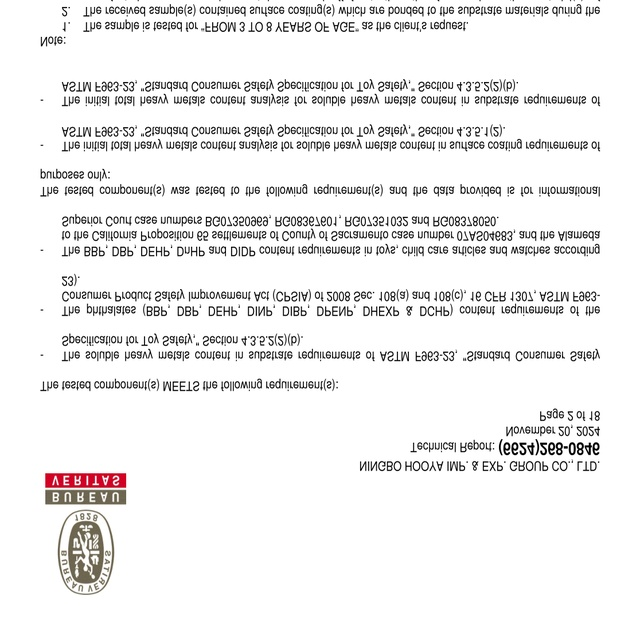bureau_veritas: (39, 471, 130, 600)
